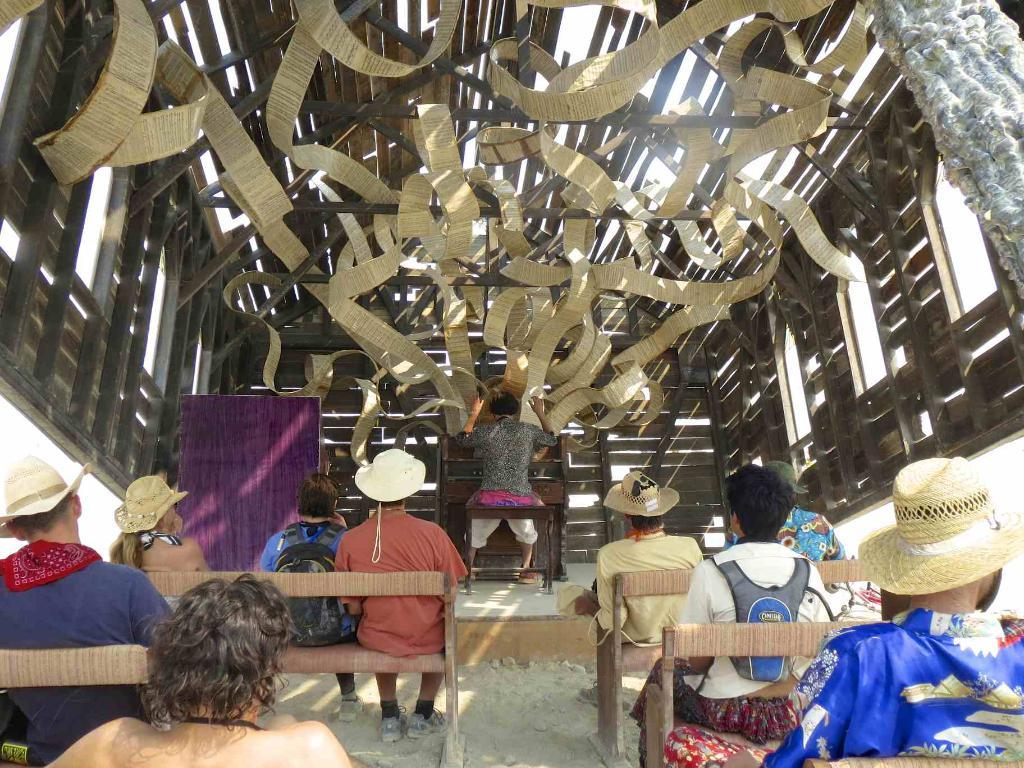Hat: (852, 450, 1023, 596), (0, 453, 92, 529), (114, 473, 188, 530), (600, 466, 676, 516), (355, 448, 425, 502), (763, 460, 809, 491)
